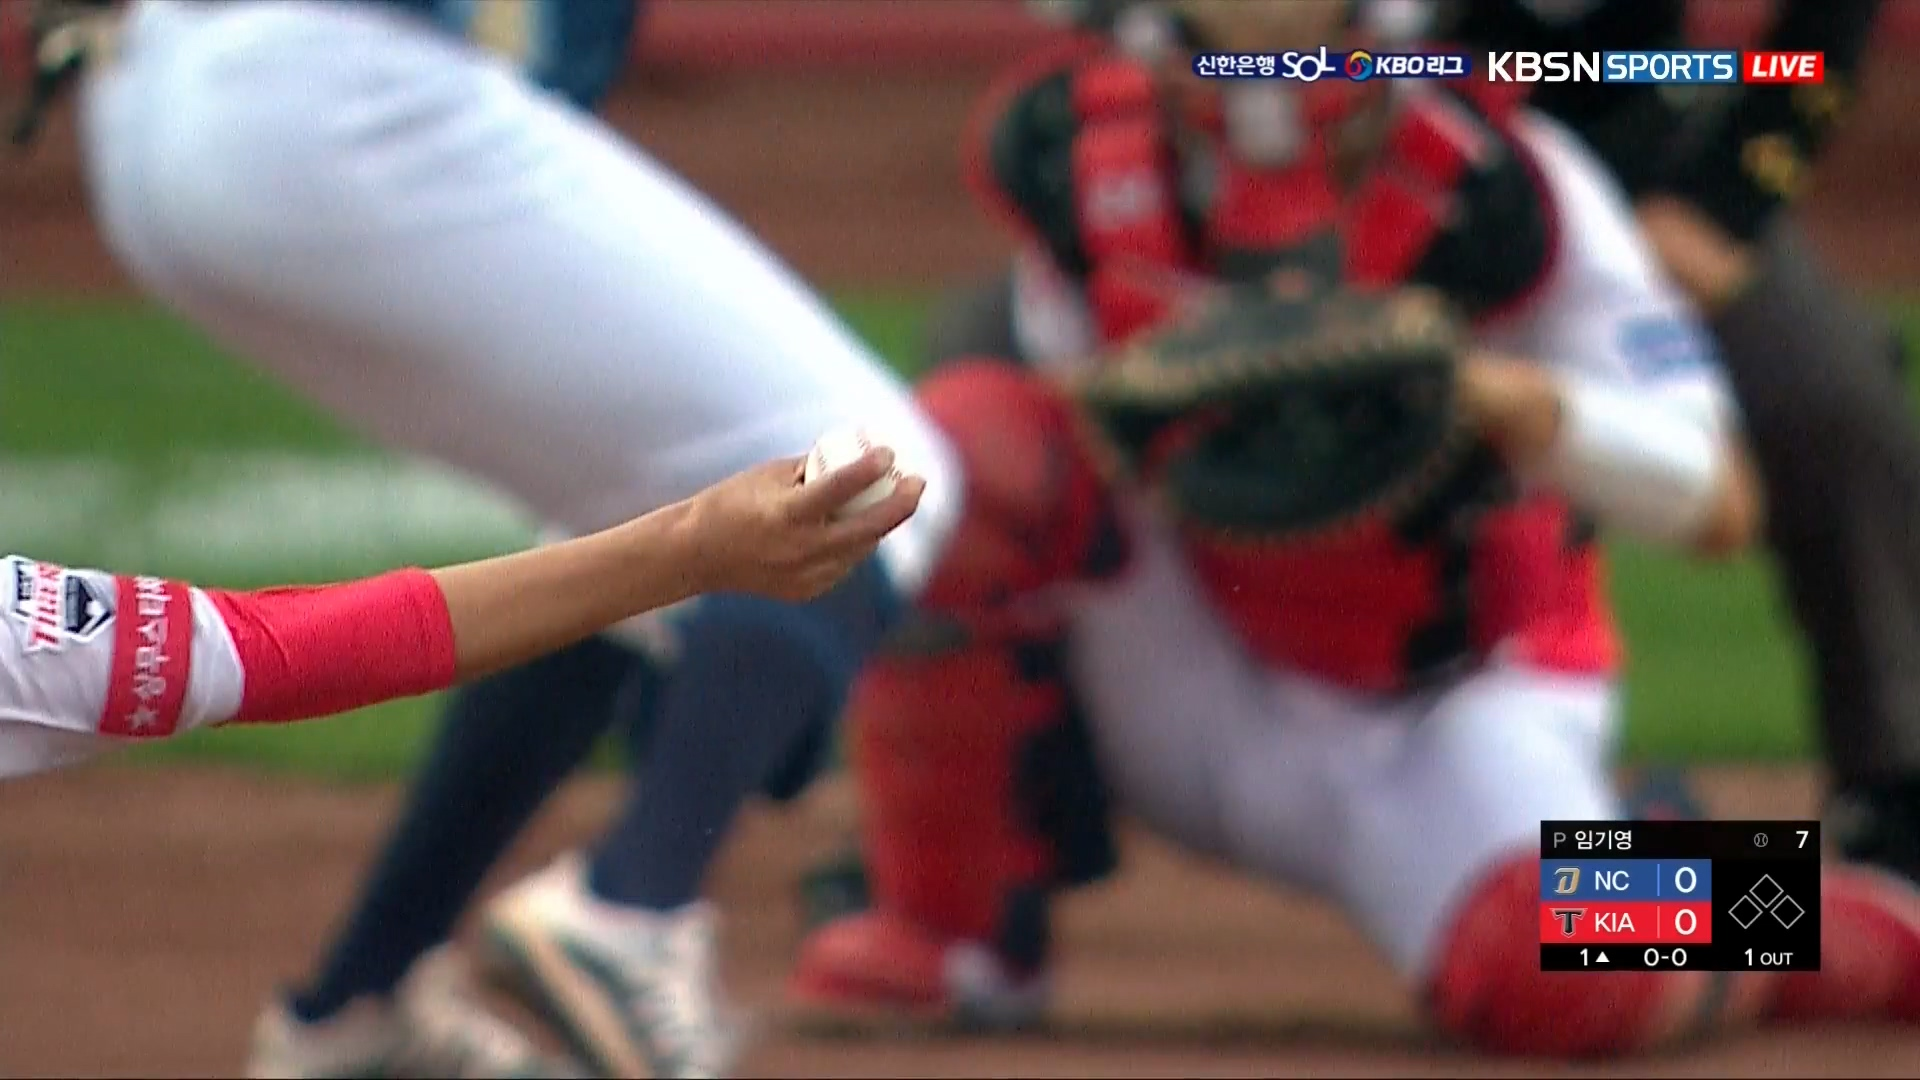zoomin_hand: (189, 423, 928, 741)
